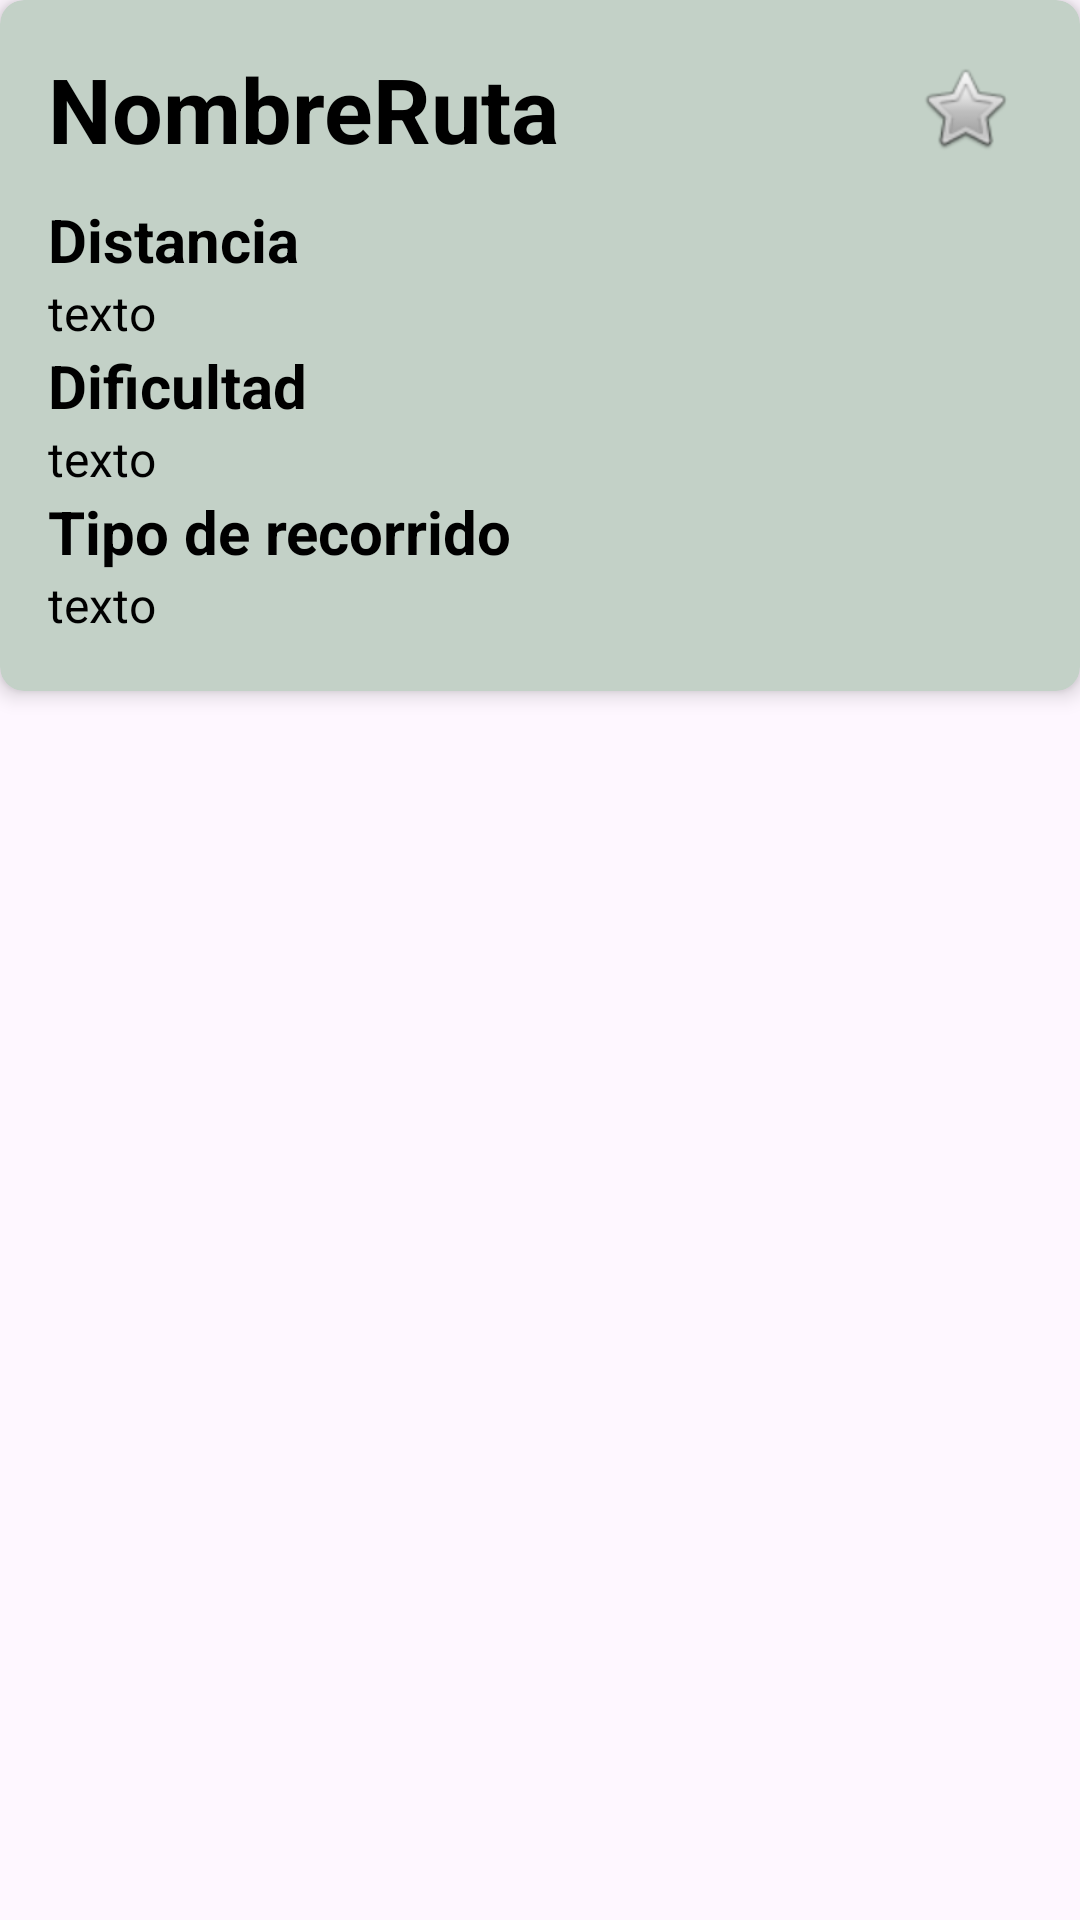

Icon bounding boxes for this 1080x1920 phone screenshot, format BBox(x1, y1, x2, y2):
Favorito: BBox(926, 70, 1006, 148)
